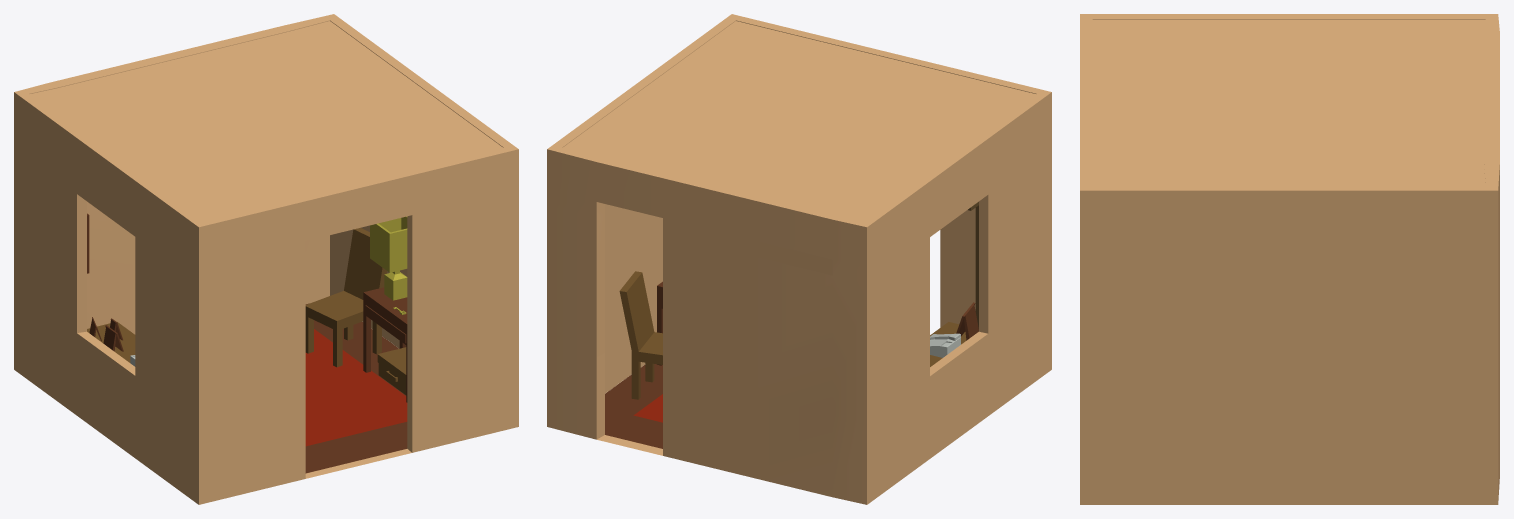
Rendered from S_Hall.glb.
3 renders of one model, left to right at view 1: azimuth 30°, elevation 25°; view 2: azimuth 150°, elevation 25°; view 3: azimuth 270°, elevation 25°, orthographic. The views are drawn at different scales.
Parts seen in each view (by area): view 1: S_Hall.001, S_Carpet.001, S_Chair.001, S_Lamp.001, S_Table.001, Cube, Cube.004; view 2: S_Hall.001, S_Chair.001, Cube.024; view 3: S_Hall.001.
Part boxes in pixels (left/top/right/bottom): S_Hall.001: left=14, top=14, right=518, bottom=504; S_Carpet.001: left=305, top=329, right=407, bottom=446; S_Chair.001: left=305, top=228, right=387, bottom=367; S_Lamp.001: left=370, top=216, right=407, bottom=300; S_Table.001: left=363, top=287, right=407, bottom=402; Cube: left=377, top=347, right=406, bottom=394; Cube.004: left=87, top=322, right=135, bottom=362; S_Hall.001: left=547, top=14, right=1051, bottom=504; S_Chair.001: left=619, top=271, right=662, bottom=399; Cube.024: left=930, top=333, right=960, bottom=357; S_Hall.001: left=1080, top=14, right=1499, bottom=504.
Size of the model in its own units: 3.19 by 2.65 by 3.2.
